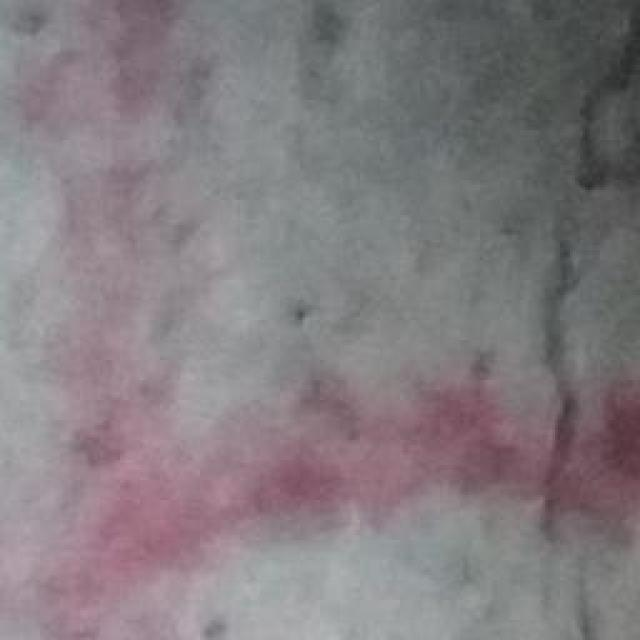Longitudinal: (511, 0, 640, 640)
Radial: (3, 0, 477, 640)
